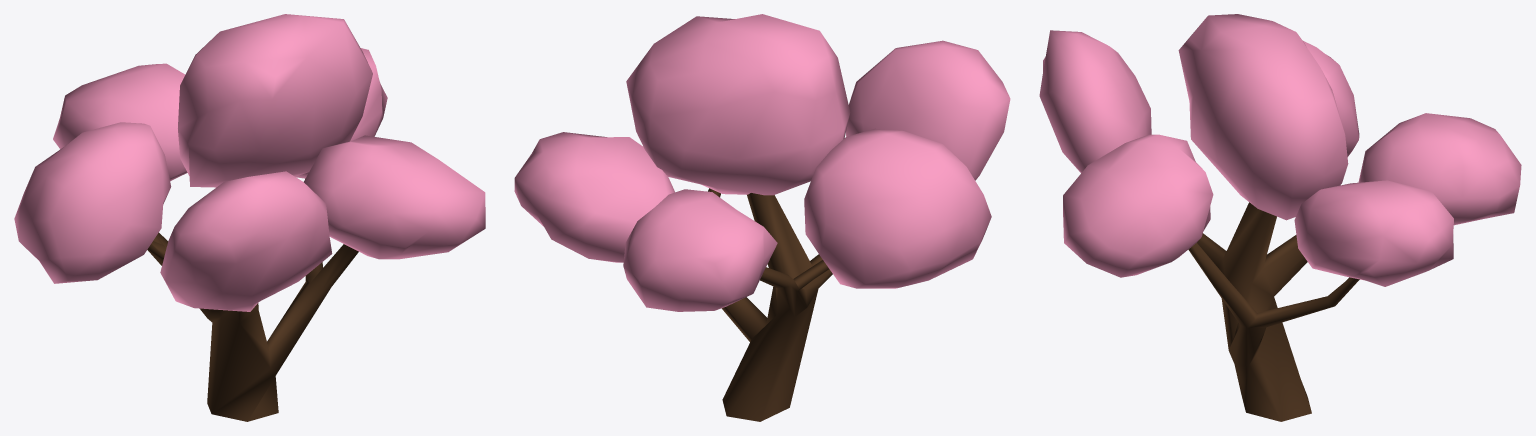
The model's file is Tree_10.fbx.
3 views of the same model, side by side, from view 1: azimuth 30°, elevation 25°; view 2: azimuth 150°, elevation 25°; view 3: azimuth 270°, elevation 25° (orthographic). The views are drawn at different scales.
Parts seen in each view (by area): view 1: Tree_10; view 2: Tree_10; view 3: Tree_10.
Boxes of the visible parts, x1=… form: Tree_10: x1=14, y1=14, x2=485, y2=421; Tree_10: x1=514, y1=14, x2=1010, y2=421; Tree_10: x1=1039, y1=14, x2=1521, y2=421.
Bounding box in the file's own units: 473 × 429 × 487.
